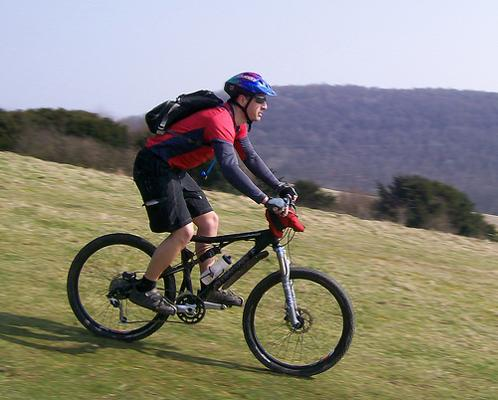person: (131, 72, 298, 316)
